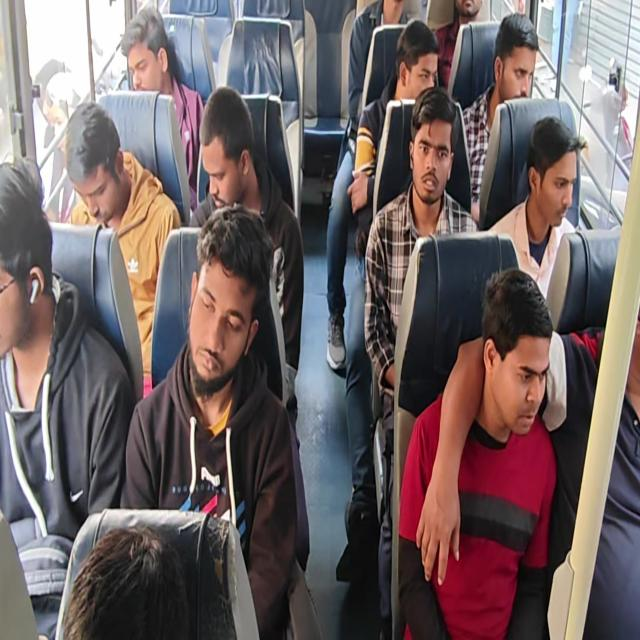person: (48, 520, 209, 640), (466, 264, 557, 449), (1, 138, 54, 387), (188, 211, 256, 397), (50, 83, 128, 238), (198, 66, 262, 214), (523, 97, 579, 239), (411, 67, 454, 212), (117, 2, 179, 98), (394, 15, 440, 100), (498, 8, 539, 102), (624, 278, 640, 406), (454, 0, 482, 25)
